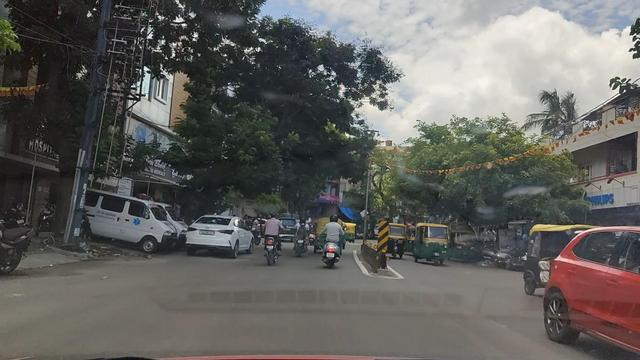LMV: (194, 211, 255, 257), (317, 216, 346, 271), (264, 213, 288, 269)
